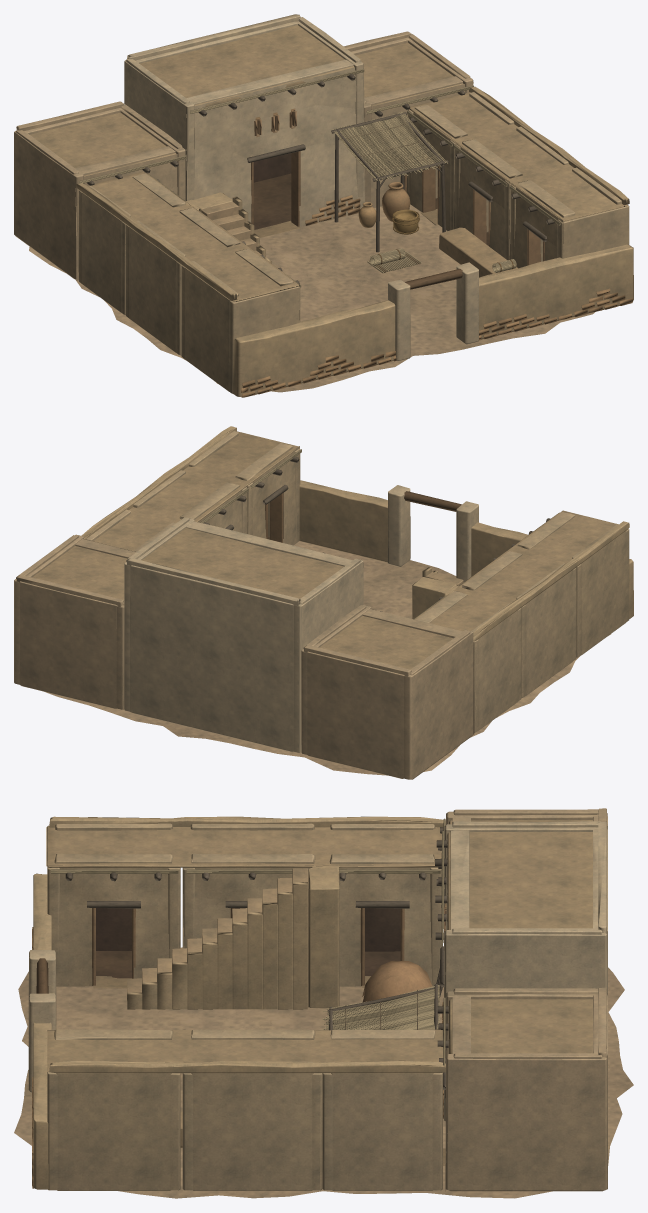
The model's file is communalHouse.glb.
3 renders of one model, top to bottom at view 1: azimuth 30°, elevation 25°; view 2: azimuth 150°, elevation 25°; view 3: azimuth 270°, elevation 25°, orthographic. The views are drawn at different scales.
Parts seen in each view (by area): view 1: Communal courtyard house; view 2: Communal courtyard house; view 3: Communal courtyard house.
Boxes of the visible parts, x1=… form: Communal courtyard house: x1=14, y1=14, x2=633, y2=397; Communal courtyard house: x1=14, y1=426, x2=633, y2=779; Communal courtyard house: x1=14, y1=808, x2=633, y2=1198.
Bounding box in the file's own units: 11.34 × 4.04 × 11.54.
5 materials, 5 textured.
